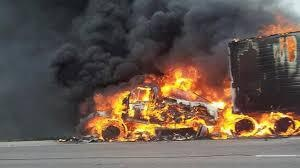fire: (77, 61, 299, 143), (259, 19, 298, 59)
